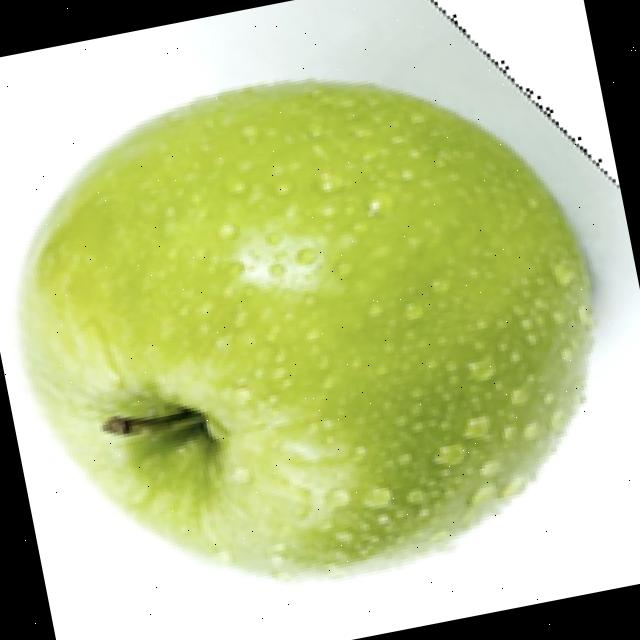apple: (10, 75, 636, 588)
